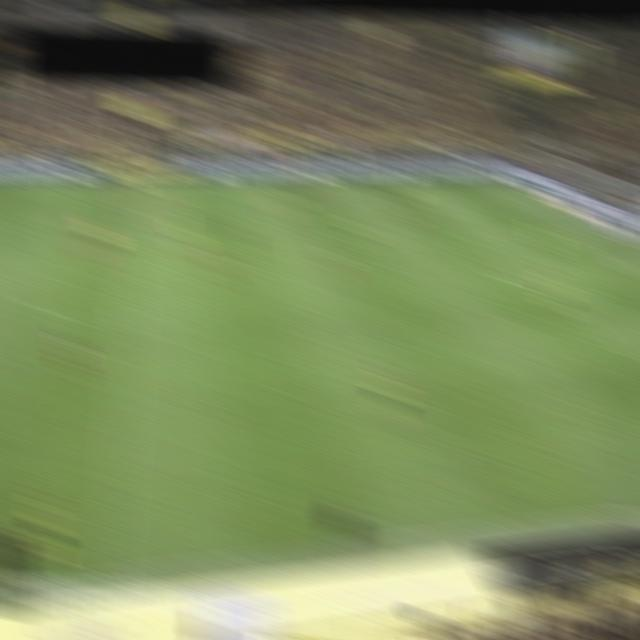bigarea_top_inner: (421, 199, 448, 216)
bigarea_top_outter: (539, 198, 566, 215)
bottom_arc_area_intersection: (531, 282, 558, 299)
corner: (490, 173, 517, 190)
halfcircle_bottom: (114, 313, 141, 329)
halfcircle_top: (119, 234, 146, 252)
midline_bottom_intersection: (96, 565, 126, 587)
midline_top_intersection: (123, 175, 150, 193)
smallarea_top_inner: (548, 225, 575, 242)
smallarea_top_outter: (589, 225, 617, 241)
top_arc_area_intersection: (463, 231, 490, 247)
